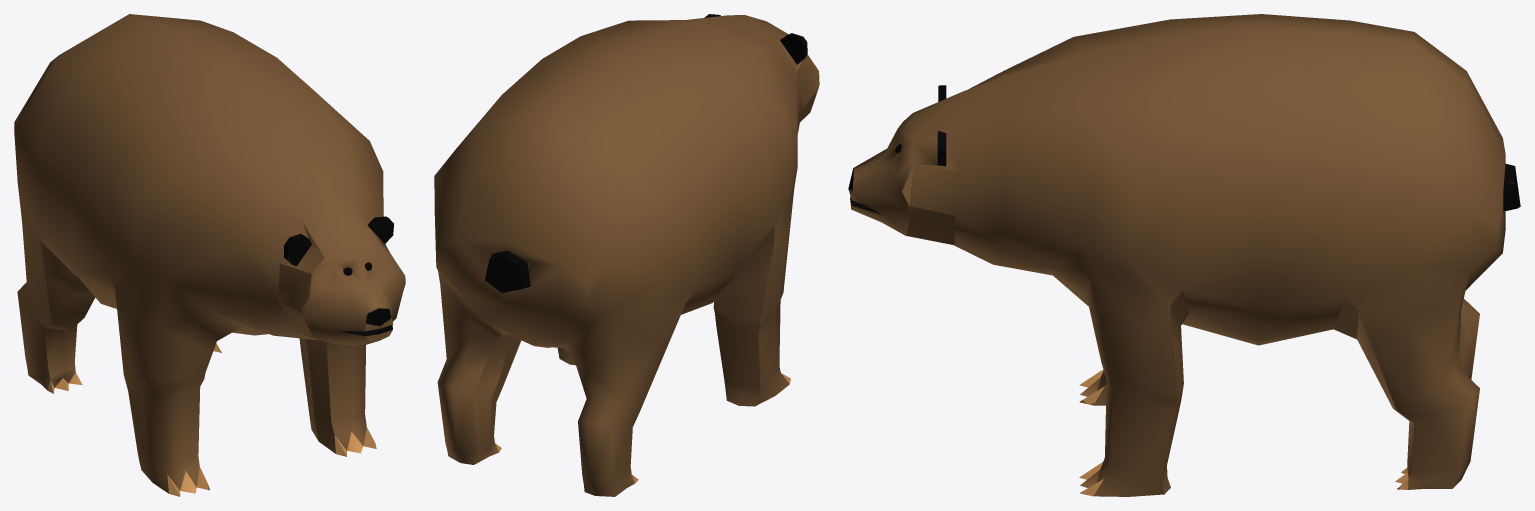
The model's file is LO_Bear_V1.fbx.
3 views of the same model, side by side, from view 1: azimuth 30°, elevation 25°; view 2: azimuth 150°, elevation 25°; view 3: azimuth 270°, elevation 25° (orthographic). The views are drawn at different scales.
Visible parts, largest first — view 1: Bear; view 2: Bear; view 3: Bear.
Part boxes in pixels (x1,y1,x2,y2): Bear: [14, 14, 405, 496]; Bear: [434, 14, 819, 496]; Bear: [848, 14, 1520, 496].
Size of the model in its own units: 61 by 85.81 by 126.
